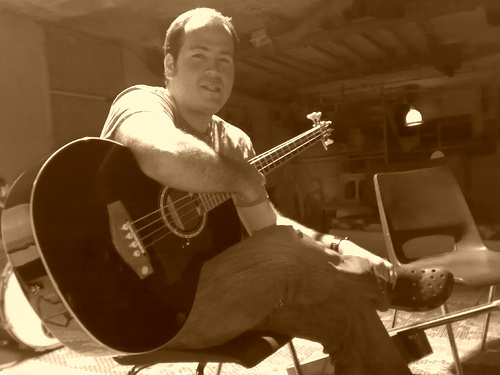guitar: (1, 114, 337, 360)
